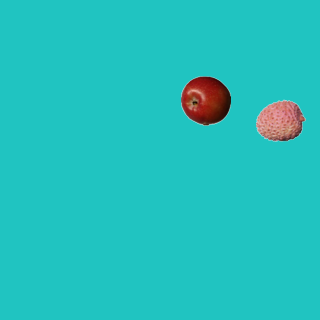Apple Braeburn: (180, 75, 230, 125)
Lychee: (255, 95, 305, 145)
